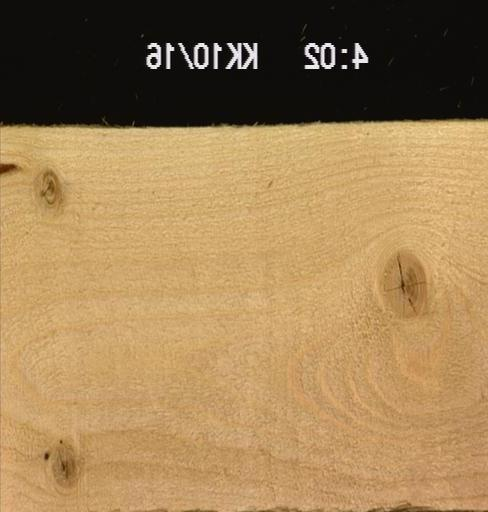sound_knot: (379, 246, 426, 317), (50, 439, 87, 489), (37, 166, 61, 206)
